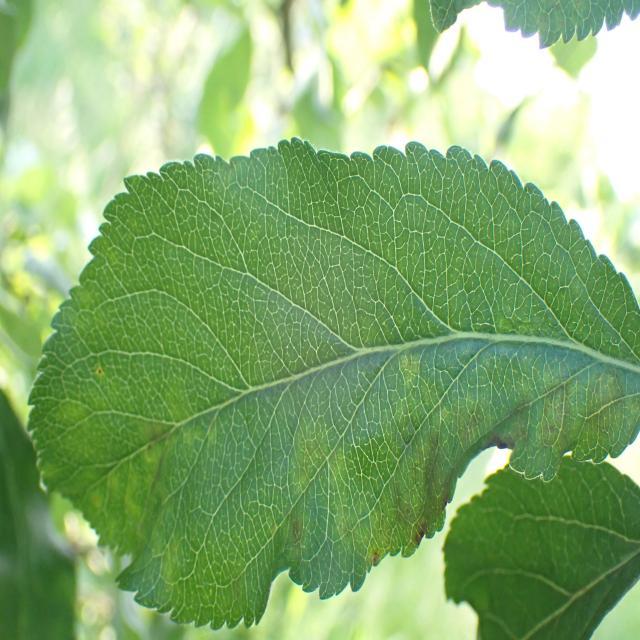scab: (63, 330, 626, 574)
